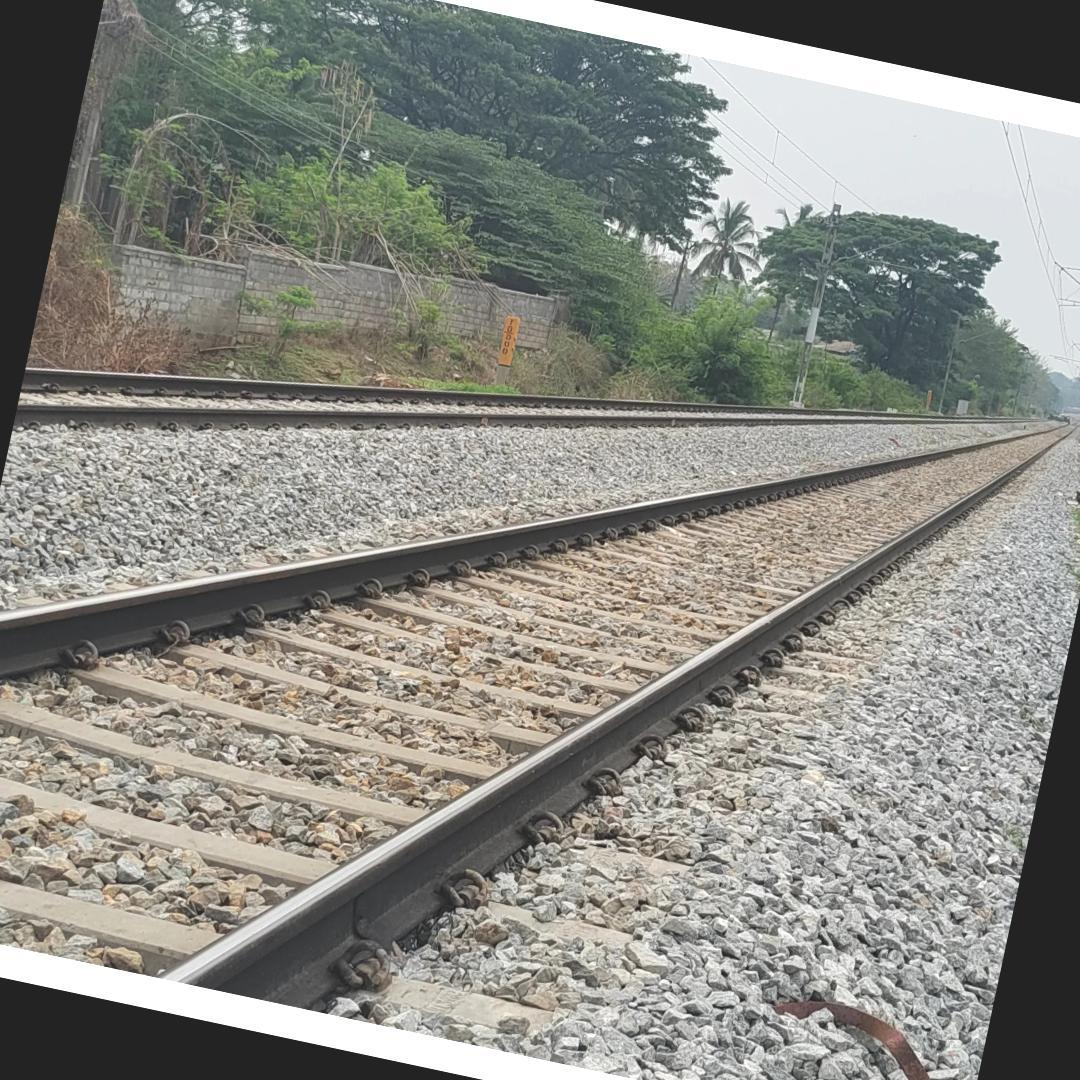track: (0, 416, 1080, 1041)
